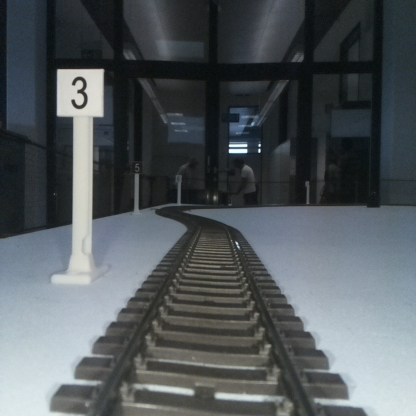black-info-5: (131, 161, 143, 213)
white-info-3: (57, 69, 103, 281)
